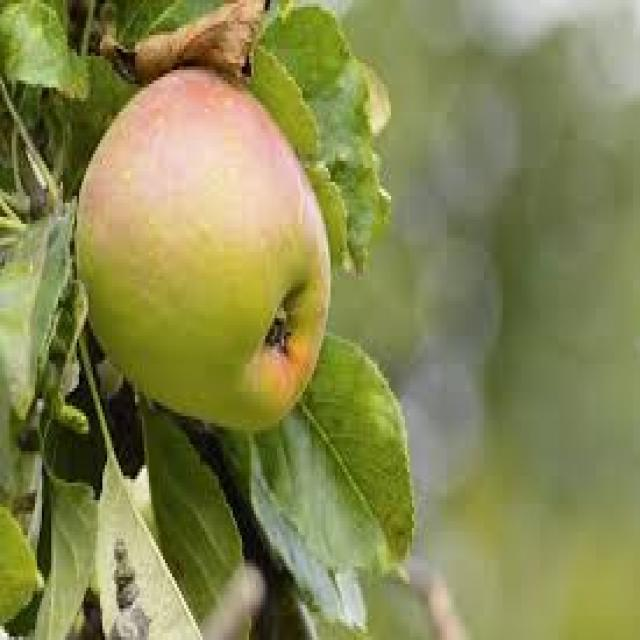Fresh Apple: (68, 84, 335, 424)
